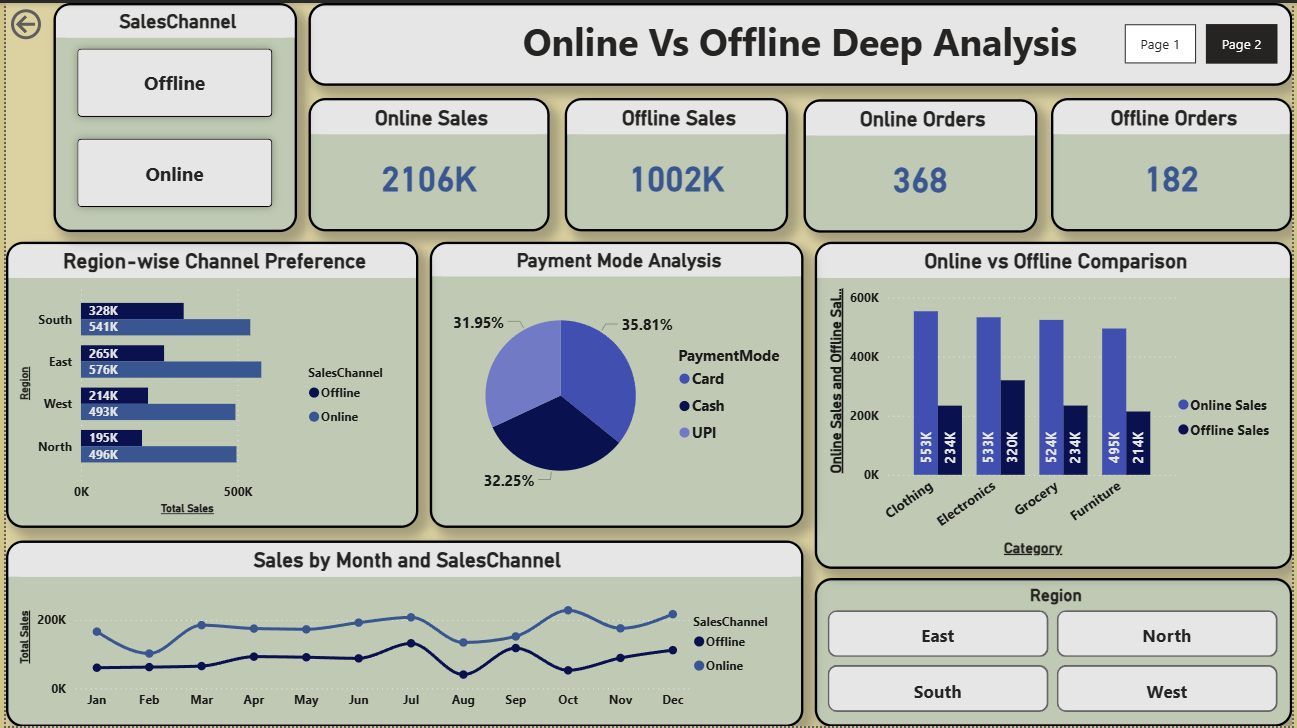

The dashboard page shown, as its layout file describes it:
{"tool":"powerbi","page":{"name":"Page 2","canvas":[1280,720],"ordinal":1},"visuals":[{"type":"textbox","box":[301,0,979,82.1],"z":0},{"type":"card","title":"Online Sales","fields":{"Values":["Online_Offline_Sales.Online Sales"]},"box":[301,94.5,240.1,133.1],"z":1000},{"type":"card","title":"Offline Sales","fields":{"Values":["Online_Offline_Sales.Offline Sales"]},"box":[556,94.5,222.7,133.1],"z":2000},{"type":"card","title":"Online Orders","fields":{"Values":["Online_Offline_Sales.Online Orders"]},"box":[793.6,95.8,232.6,133.1],"z":3000},{"type":"card","title":"Offline Orders","fields":{"Values":["Online_Offline_Sales.Offline Orders"]},"box":[1040,94.5,240.1,133.1],"z":4000},{"type":"clusteredColumnChart","title":"Online vs Offline Comparison","fields":{"Category":["Online_Offline_Sales.Category"],"Y":["Online_Offline_Sales.Online Sales","Online_Offline_Sales.Offline Sales"]},"box":[804.8,237.6,475.2,325.9],"z":5000},{"type":"pieChart","title":"Payment Mode Analysis","fields":{"Category":["Online_Offline_Sales.PaymentMode"],"Y":["Online_Offline_Sales.Total Sales"]},"box":[421.7,237.6,371.9,284.9],"z":6000},{"type":"clusteredBarChart","title":"Region-wise Channel Preference","fields":{"Category":["Online_Offline_Sales.Region"],"Series":["Online_Offline_Sales.SalesChannel"],"Y":["Online_Offline_Sales.Total Sales"]},"box":[0,237.6,410.5,284.9],"z":7000},{"type":"lineChart","title":"Sales by Month and SalesChannel","fields":{"Category":["Online_Offline_Sales.Month"],"Series":["Online_Offline_Sales.SalesChannel"],"Y":["Online_Offline_Sales.Total Sales"]},"box":[0,534.9,793.6,185.3],"z":8000},{"type":"advancedSlicerVisual","fields":{"Values":["Online_Offline_Sales.Region"]},"box":[804.8,572.2,475.2,148],"z":9000},{"type":"actionButton","box":[0,1.2,47.3,39.8],"z":10000},{"type":"pageNavigator","box":[1113.3,21.1,153,39.8],"z":11000},{"type":"advancedSlicerVisual","fields":{"Values":["Online_Offline_Sales.SalesChannel"]},"box":[47.3,0,242.6,227.6],"z":13000}]}

Visuals, with their boxes in screenshot pixels (x1, y1, x2, y2), scaled from the page's 1280x720 canvas onto the 1297x728 screenshot:
textbox: x1=305 y1=0 x2=1296 y2=83
"Online Sales" card: x1=305 y1=96 x2=548 y2=230
"Offline Sales" card: x1=563 y1=96 x2=789 y2=230
"Online Orders" card: x1=804 y1=97 x2=1040 y2=231
"Offline Orders" card: x1=1054 y1=96 x2=1296 y2=230
"Online vs Offline Comparison" clusteredColumnChart: x1=815 y1=240 x2=1296 y2=570
"Payment Mode Analysis" pieChart: x1=427 y1=240 x2=804 y2=528
"Region-wise Channel Preference" clusteredBarChart: x1=0 y1=240 x2=416 y2=528
"Sales by Month and SalesChannel" lineChart: x1=0 y1=541 x2=804 y2=727
advancedSlicerVisual - Online_Offline_Sales.Region: x1=815 y1=579 x2=1296 y2=727
actionButton: x1=0 y1=1 x2=48 y2=41
pageNavigator: x1=1128 y1=21 x2=1283 y2=62
advancedSlicerVisual - Online_Offline_Sales.SalesChannel: x1=48 y1=0 x2=294 y2=230
